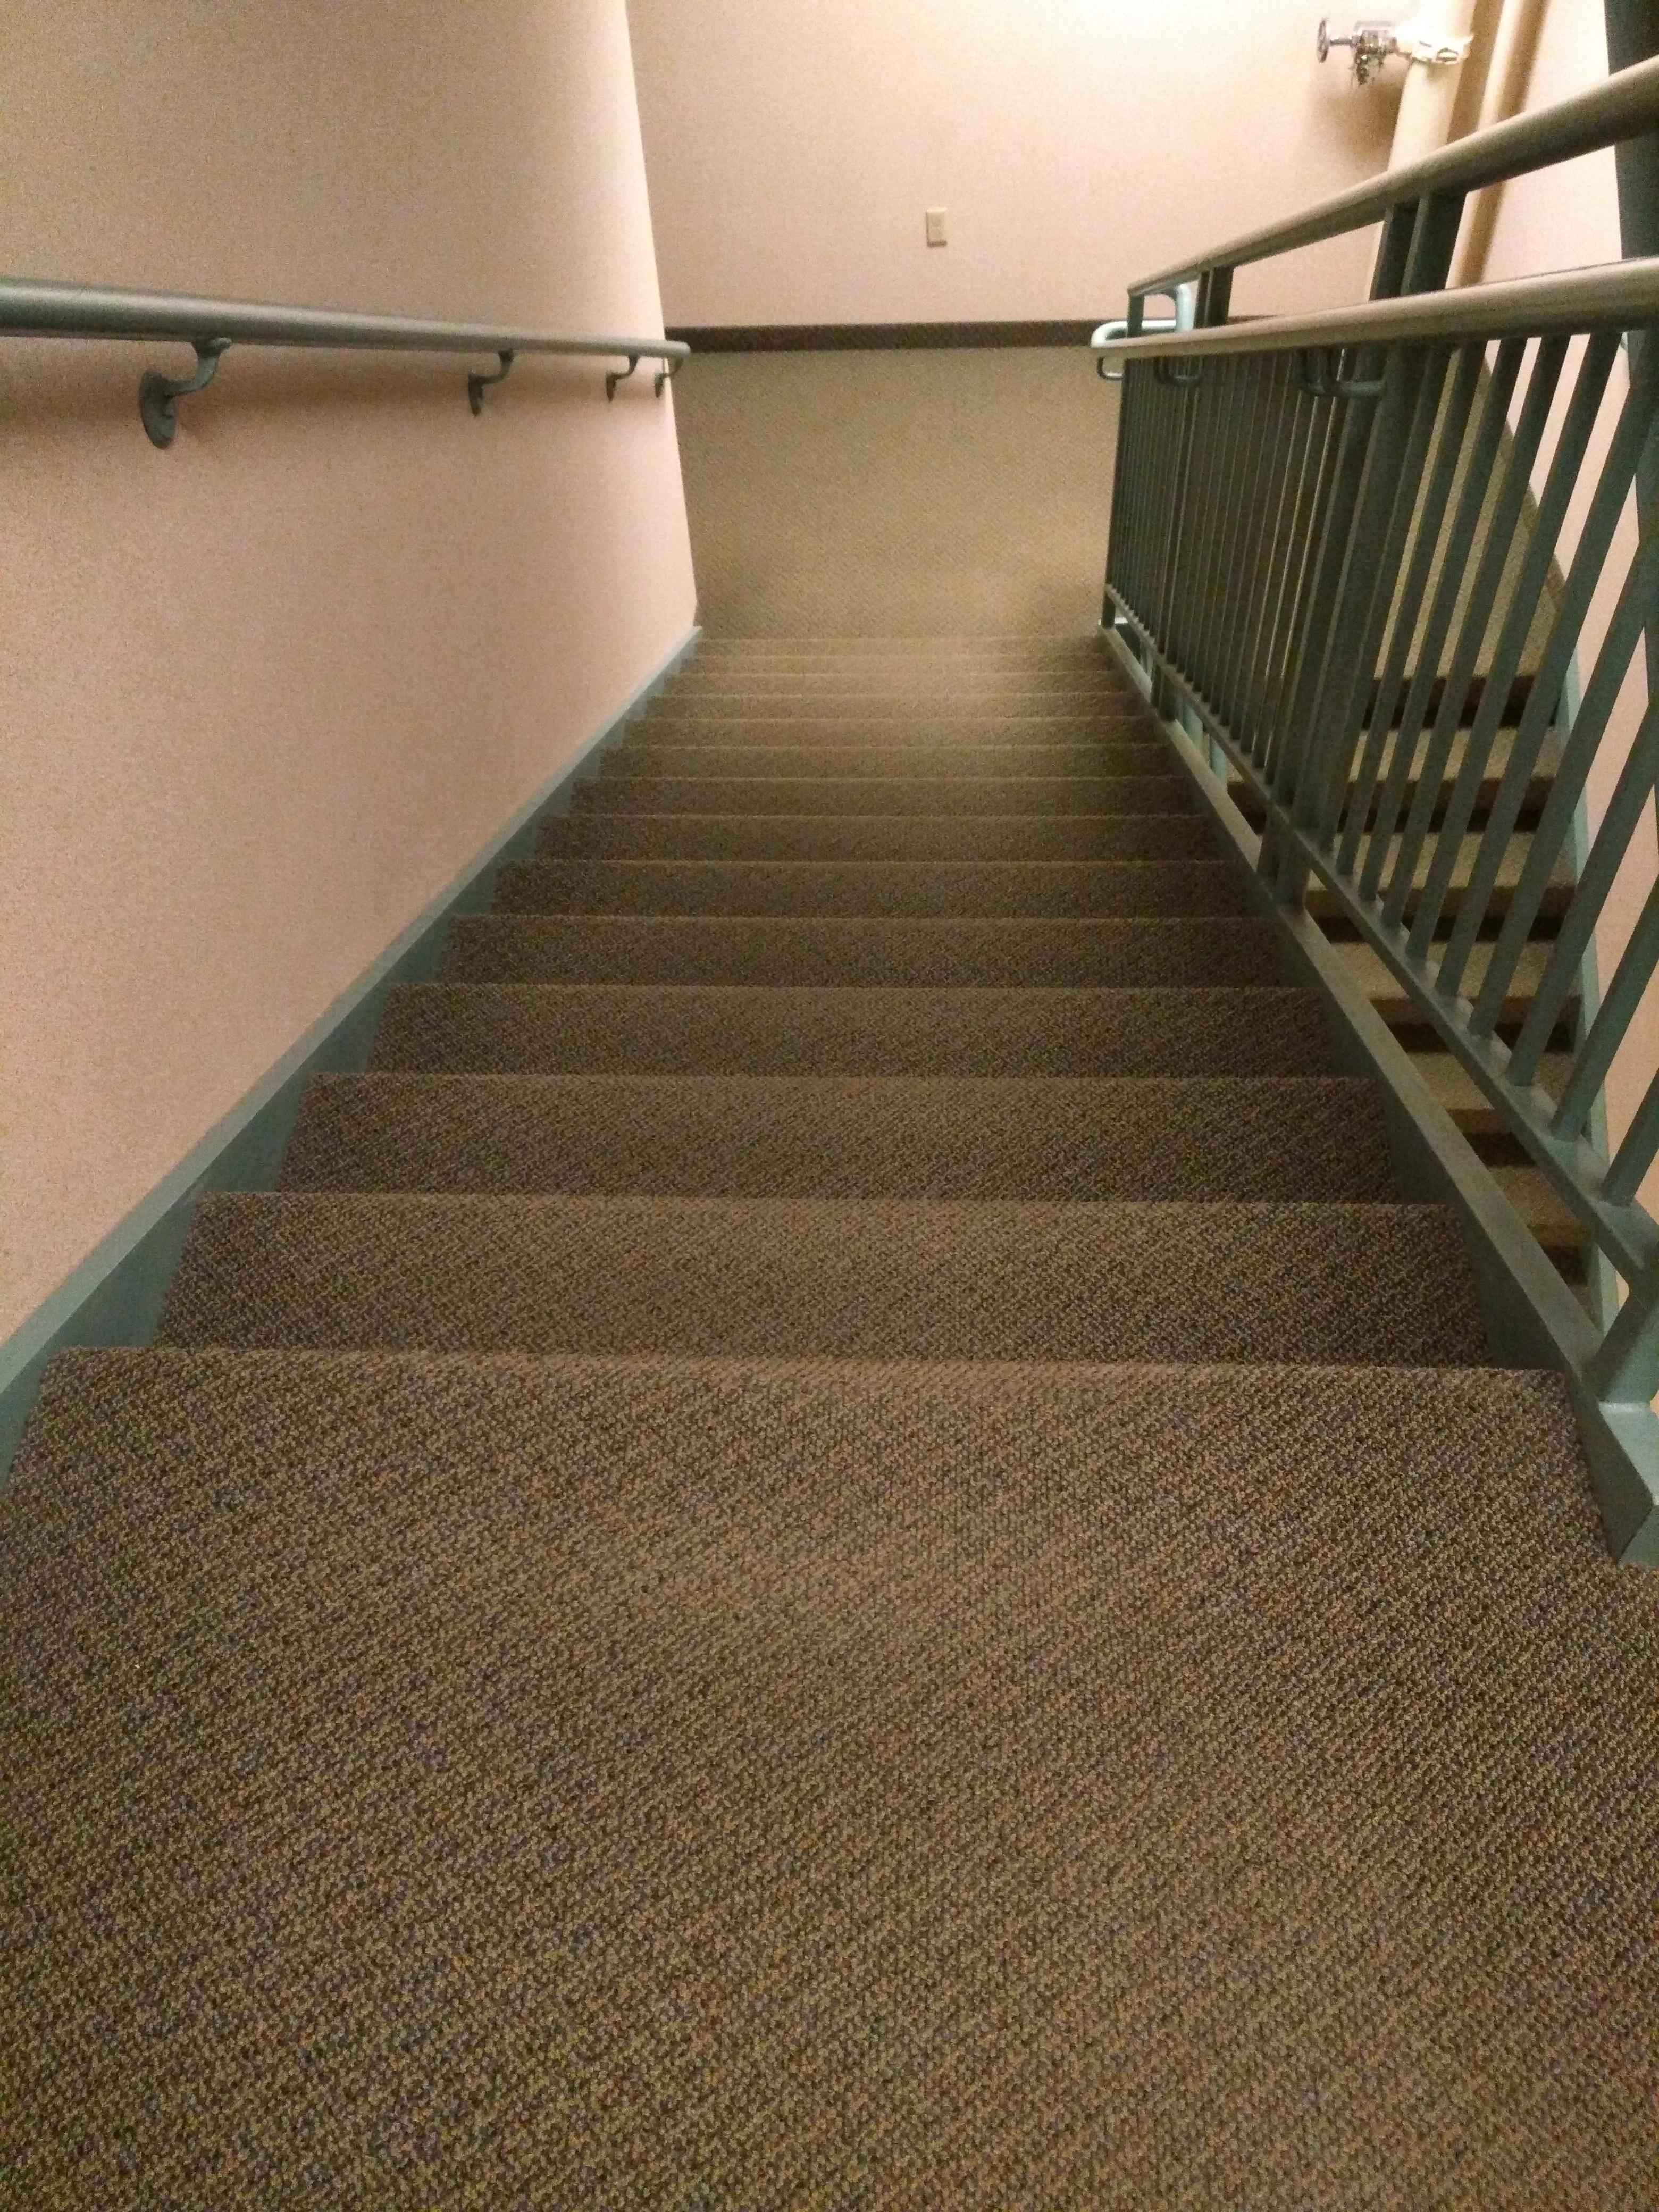stairs_down: (35, 617, 1598, 1496)
